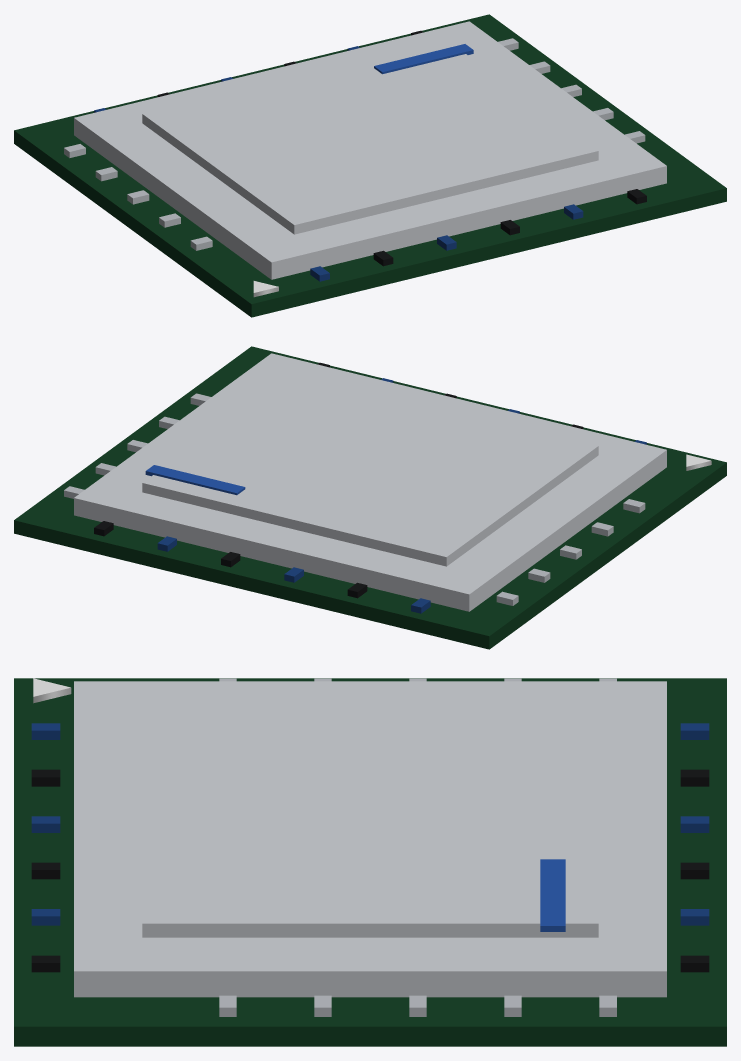
Rendered from hw_cpu_xeon_14c.glb.
The picture shows the model from 3 angles, top to bottom: view 1: azimuth 30°, elevation 25°; view 2: azimuth 150°, elevation 25°; view 3: azimuth 270°, elevation 25°; orthographic projection. The views are drawn at different scales.
Visible parts, largest first — view 1: Body; view 2: Body; view 3: Body.
Boxes of the visible parts, <box> form: Body: <box>14,14,726,317</box>; Body: <box>14,346,726,649</box>; Body: <box>14,678,726,1046</box>.
Size of the model in its own units: 0.052 by 0.00467 by 0.045.
